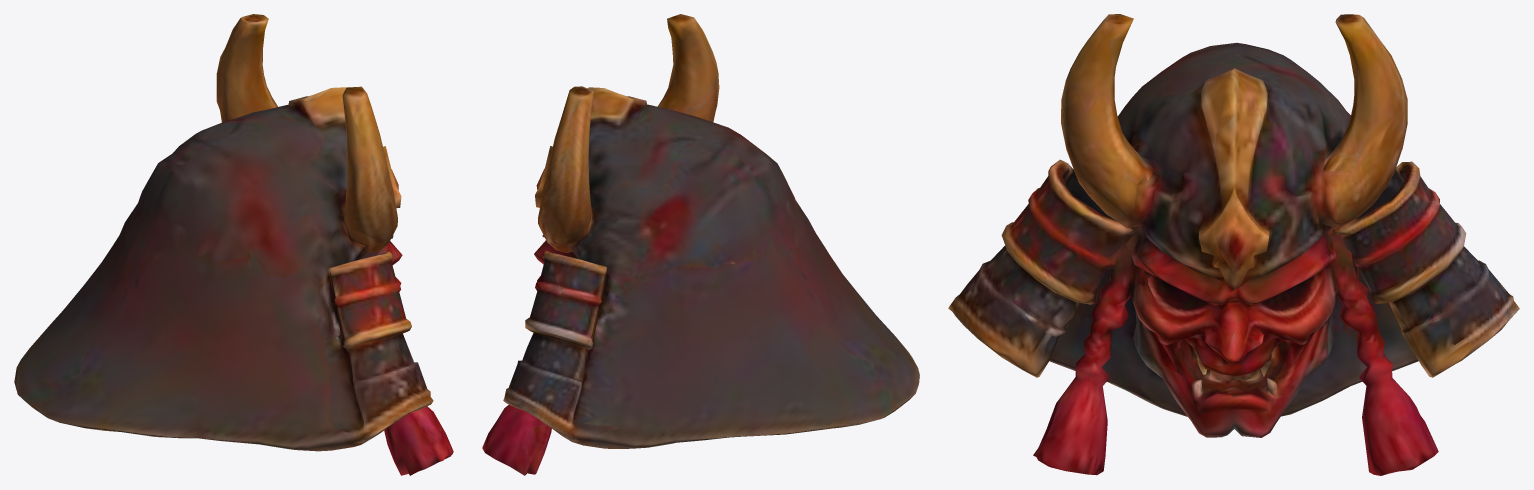
Rendered from hat_oni.glb.
3 views of the same model, side by side, from view 1: azimuth 30°, elevation 25°; view 2: azimuth 150°, elevation 25°; view 3: azimuth 270°, elevation 25° (orthographic). The views are drawn at different scales.
Parts seen in each view (by area): view 1: tripo_node_6a688dd3-d85c-4a67-8633-d78b82e9f94a; view 2: tripo_node_6a688dd3-d85c-4a67-8633-d78b82e9f94a; view 3: tripo_node_6a688dd3-d85c-4a67-8633-d78b82e9f94a.
Part boxes in pixels (bbox=[...]): tripo_node_6a688dd3-d85c-4a67-8633-d78b82e9f94a: bbox=[14, 14, 453, 475]; tripo_node_6a688dd3-d85c-4a67-8633-d78b82e9f94a: bbox=[482, 14, 919, 475]; tripo_node_6a688dd3-d85c-4a67-8633-d78b82e9f94a: bbox=[948, 14, 1519, 475].
Size of the model in its own units: 0.3054 by 0.3 by 0.3619.
Materials: 1 (1 with a texture image).
